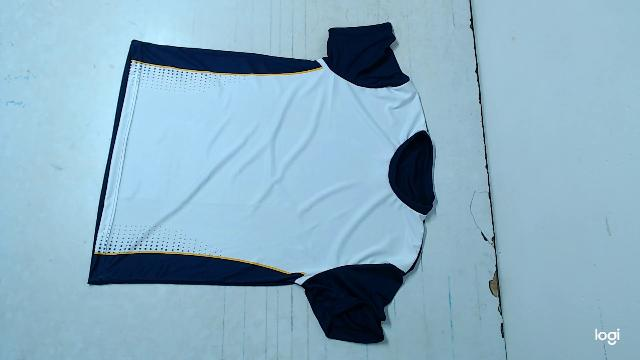new-garment: (88, 23, 435, 343)
